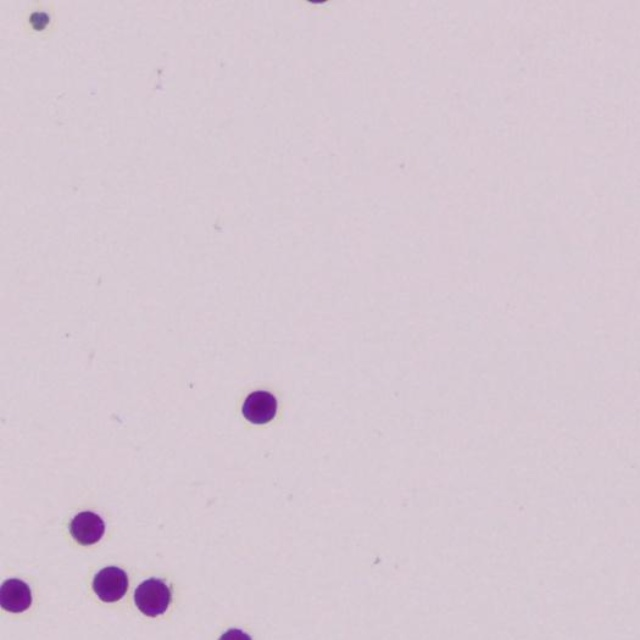non_viable: (29, 12, 49, 29)
viable: (134, 578, 169, 616), (93, 566, 128, 601), (69, 512, 104, 544), (243, 391, 276, 423), (0, 578, 30, 612), (219, 628, 251, 640)
